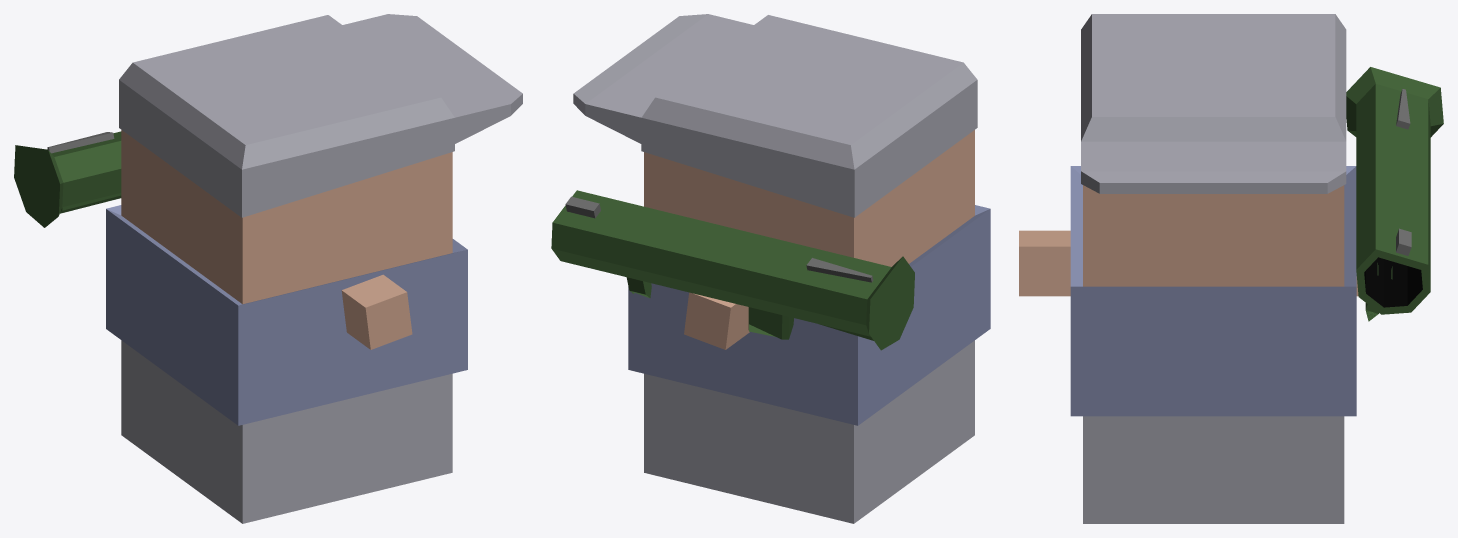
File: anti-armour-personnel.gltf
The picture shows the model from 3 angles, left to right: view 1: azimuth 30°, elevation 25°; view 2: azimuth 150°, elevation 25°; view 3: azimuth 270°, elevation 25°; orthographic projection. The views are drawn at different scales.
Parts seen in each view (by area): view 1: Cube, Cube.001, Cylinder, Cube.003; view 2: Cube, Cube.001, Cylinder, Cube.002; view 3: Cube, Cube.001, Cylinder, Cube.003.
Part boxes in pixels (x1=…): Cube: x1=106, y1=130, x2=467, y2=523; Cube.001: x1=119, y1=14, x2=522, y2=217; Cylinder: x1=14, y1=131, x2=121, y2=227; Cube.003: x1=341, y1=274, x2=412, y2=349; Cube: x1=628, y1=130, x2=990, y2=523; Cube.001: x1=573, y1=14, x2=977, y2=217; Cylinder: x1=551, y1=190, x2=914, y2=350; Cube.002: x1=684, y1=292, x2=749, y2=349; Cube: x1=1070, y1=166, x2=1356, y2=523; Cube.001: x1=1081, y1=14, x2=1346, y2=193; Cylinder: x1=1346, y1=67, x2=1443, y2=321; Cube.003: x1=1019, y1=230, x2=1070, y2=296.
Bounding box in the file's own units: 3.33 × 3.41 × 3.25.
